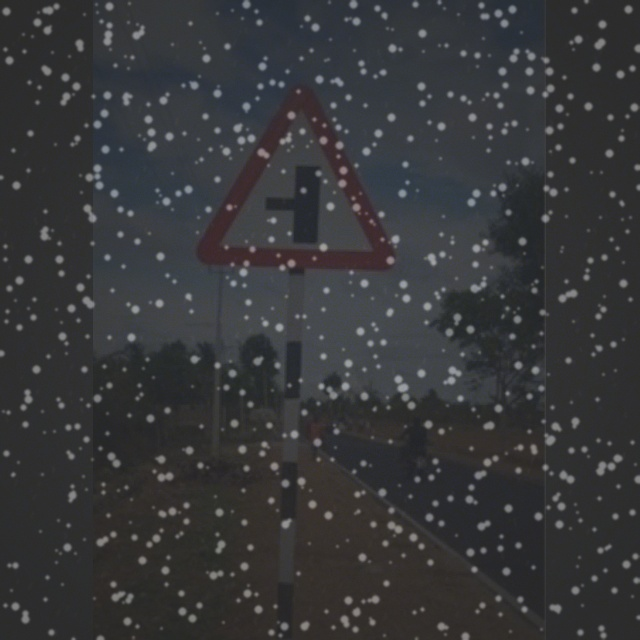Side_Road_Left: (200, 86, 398, 279)
